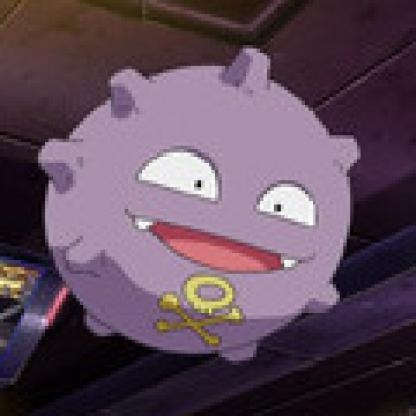Koffing: (36, 41, 352, 371)
